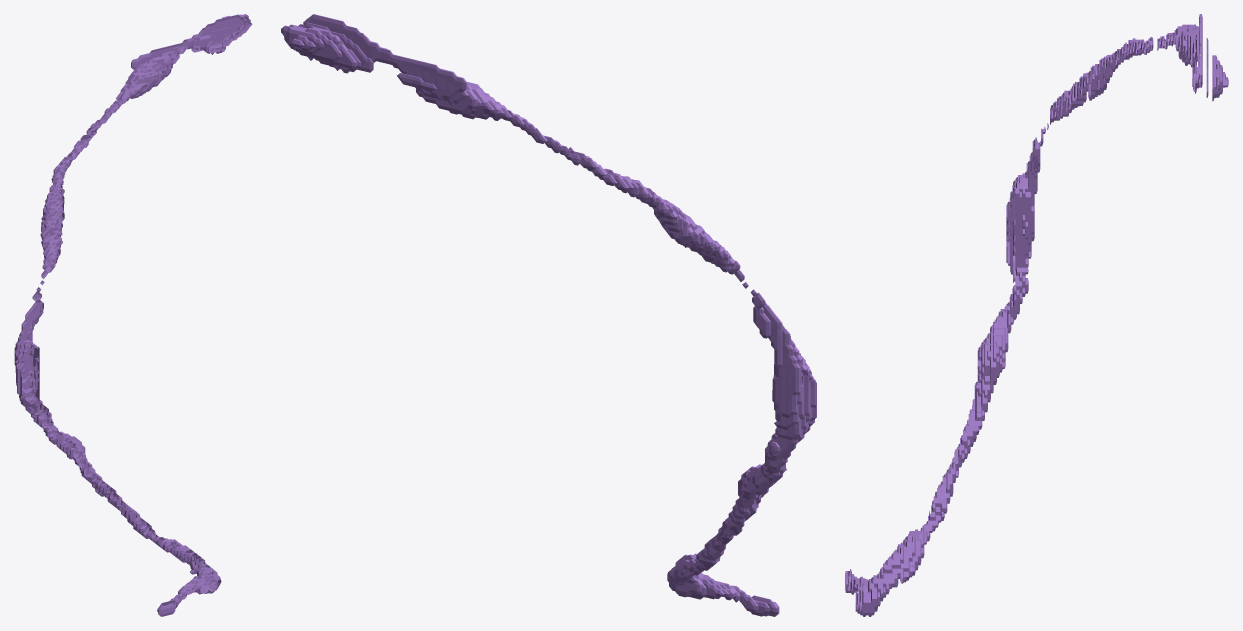
Rendered from SVV_AFDL.gltf.
3 renders of one model, left to right at view 1: azimuth 30°, elevation 25°; view 2: azimuth 150°, elevation 25°; view 3: azimuth 270°, elevation 25°, orthographic. The views are drawn at different scales.
Visible parts, largest first — view 1: AFDL; view 2: AFDL; view 3: AFDL.
Boxes of the visible parts, <box> form: AFDL: <box>14,14,252,616</box>; AFDL: <box>281,14,816,616</box>; AFDL: <box>845,14,1228,616</box>.
Bounding box in the file's own units: 66614 × 97330 × 50828.
